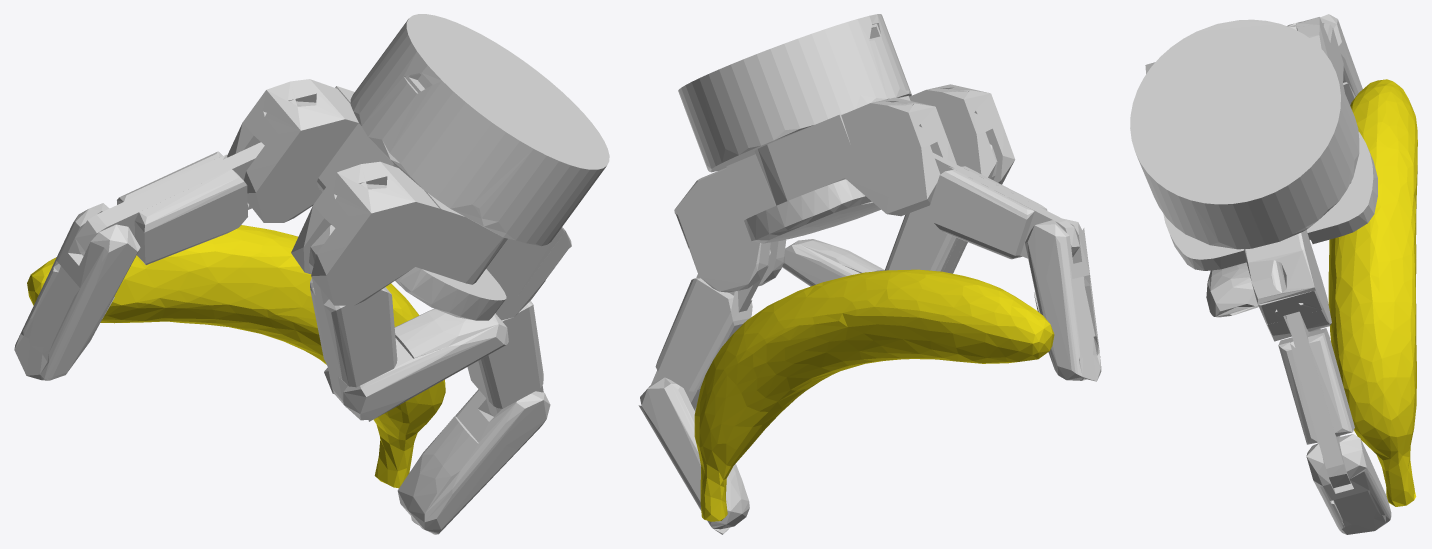
File: graspit_barret_banana.glb
3 views of the same model, side by side, from view 1: azimuth 30°, elevation 25°; view 2: azimuth 150°, elevation 25°; view 3: azimuth 270°, elevation 25° (orthographic). The views are drawn at different scales.
Parts seen in each view (by area): view 1: hand_barrett_banana, object_barrett_banana; view 2: hand_barrett_banana, object_barrett_banana; view 3: hand_barrett_banana, object_barrett_banana.
Boxes of the visible parts, x1,y1,x2,y2 form: hand_barrett_banana: (14,14,609,534); object_barrett_banana: (27,225,445,488); hand_barrett_banana: (638,14,1101,534); object_barrett_banana: (694,269,1054,521); hand_barrett_banana: (1130,14,1391,534); object_barrett_banana: (1328,79,1417,506).
Bounding box in the file's own units: 0.2125 × 0.219 × 0.1183.
